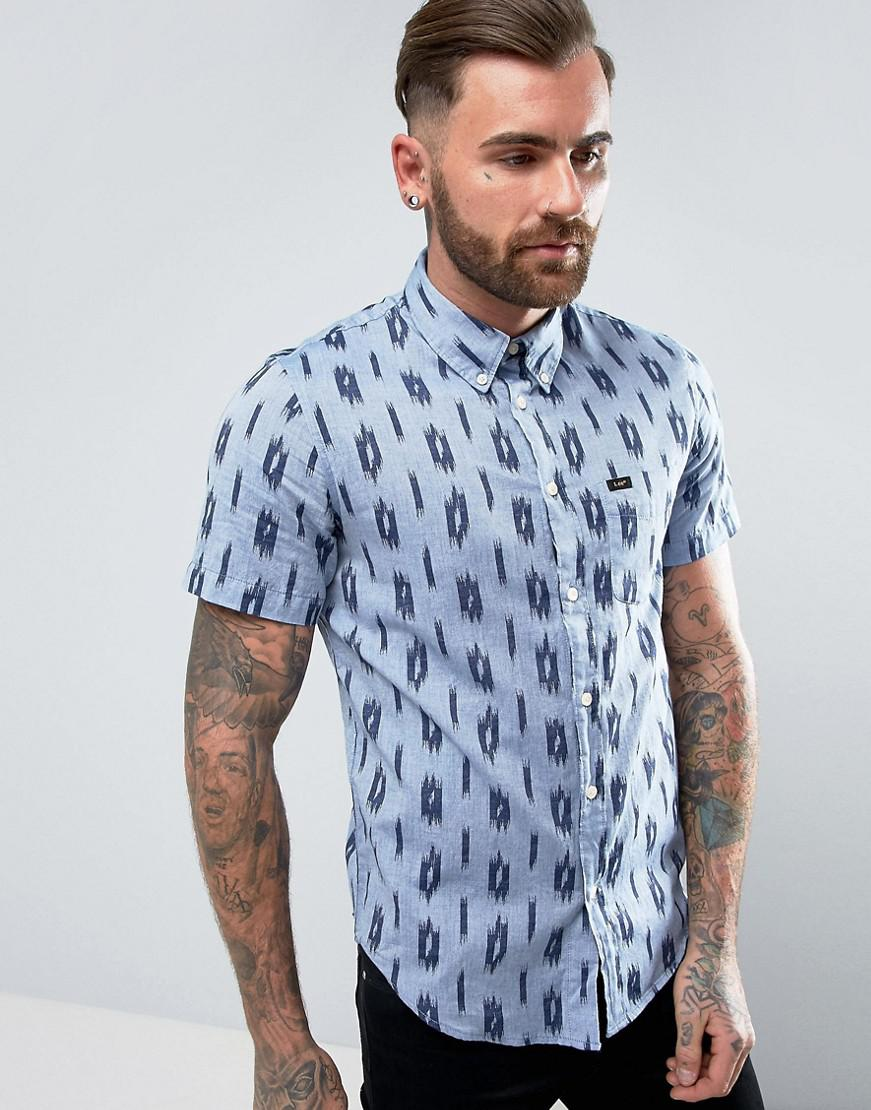teeshirt: (205, 276, 776, 1025)
